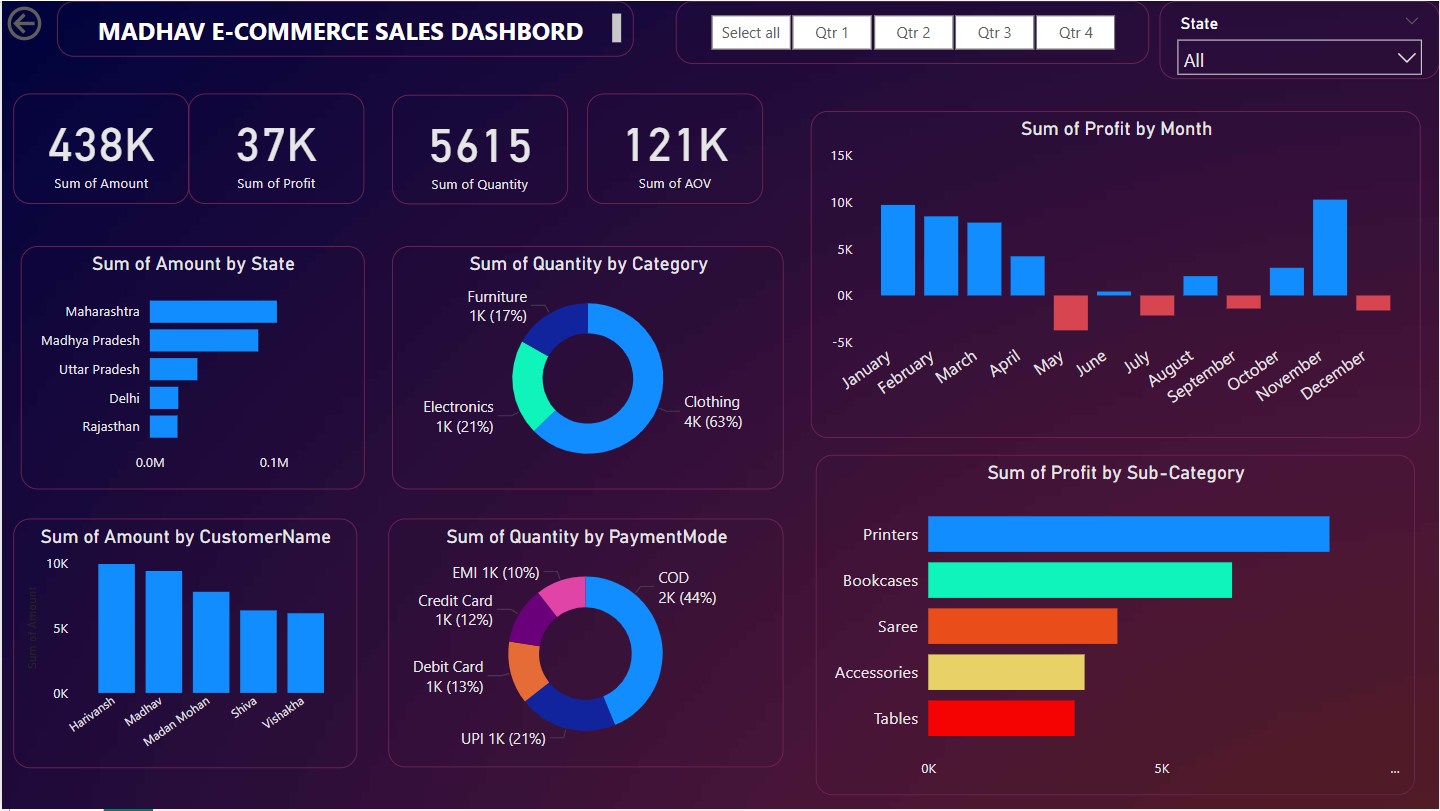

This screenshot's page, from the dashboard's own definition file:
{"tool":"powerbi","page":{"name":"Page 1","canvas":[1280,720],"ordinal":0},"visuals":[{"type":"textbox","box":[49.4,0,513.2,49.4],"z":0},{"type":"columnChart","fields":{"Category":["Orders.Order Date.Variation.Date Hierarchy.Month"],"Y":["Details.Profit"]},"box":[720.4,97.4,543.4,290.9],"z":1000},{"type":"barChart","fields":{"Category":["Details.Sub-Category"],"Y":["Details.Profit"]},"box":[725.1,404.2,533.2,302.8],"z":2000},{"type":"donutChart","fields":{"Category":["Details.Category"],"Y":["Details.Quantity"]},"box":[347.5,218.4,348.7,217.2],"z":3000},{"type":"donutChart","fields":{"Category":["Details.PaymentMode"],"Y":["Details.Quantity"]},"box":[343.8,460.9,352.3,222],"z":4000},{"type":"card","fields":{"Values":["Details.Amount"]},"box":[9.6,82.3,156.4,98.8],"z":5000},{"type":"card","fields":{"Values":["Details.Profit"]},"box":[166,82.3,156.4,98.8],"z":6000},{"type":"card","fields":{"Values":["Details.AOV"]},"box":[521.4,82.3,156.4,98.8],"z":7000},{"type":"card","fields":{"Values":["Details.Quantity"]},"box":[347.5,83.2,156.8,97.7],"z":8000},{"type":"barChart","fields":{"Category":["Orders.State"],"Y":["Details.Amount"]},"box":[16.5,218.2,306,216.8],"z":9000},{"type":"columnChart","fields":{"Category":["Orders.CustomerName"],"Y":["Details.Amount"]},"box":[9.6,461.1,306,222.3],"z":10000},{"type":"slicer","fields":{"Values":["Orders.Order Date.Variation.Date Hierarchy.Quarter"]},"box":[599.7,0,421.3,56.3],"z":11000},{"type":"actionButton","box":[0,0,100,40],"z":12000},{"type":"slicer","fields":{"Values":["Orders.State"]},"box":[1030.5,0,249.7,70],"z":13000}]}

Visuals, with their boxes in screenshot pixels (x1, y1, x2, y2), scaled from the page's 1280x720 canvas onto the 1440x811 screenshot:
textbox: select_region(56, 0, 633, 56)
columnChart - Orders.Order Date.Variation.Date Hierarchy.Month x Details.Profit: select_region(810, 110, 1422, 437)
barChart - Details.Sub-Category x Details.Profit: select_region(816, 455, 1416, 796)
donutChart - Details.Category x Details.Quantity: select_region(391, 246, 783, 491)
donutChart - Details.PaymentMode x Details.Quantity: select_region(387, 519, 783, 769)
card - Details.Amount: select_region(11, 93, 187, 204)
card - Details.Profit: select_region(187, 93, 363, 204)
card - Details.AOV: select_region(587, 93, 763, 204)
card - Details.Quantity: select_region(391, 94, 567, 204)
barChart - Orders.State x Details.Amount: select_region(19, 246, 363, 490)
columnChart - Orders.CustomerName x Details.Amount: select_region(11, 519, 355, 770)
slicer - Orders.Order Date.Variation.Date Hierarchy.Quarter: select_region(675, 0, 1149, 63)
actionButton: select_region(0, 0, 112, 45)
slicer - Orders.State: select_region(1159, 0, 1439, 79)
